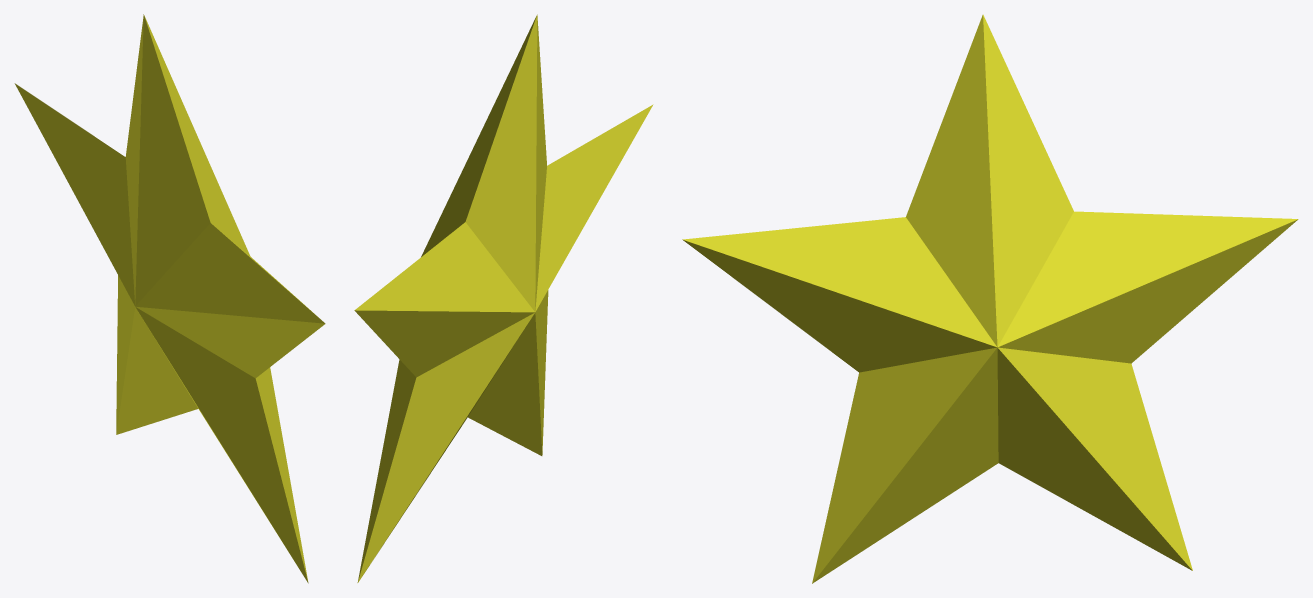
The model's file is bintang.fbx.
3 views of the same model, side by side, from view 1: azimuth 30°, elevation 25°; view 2: azimuth 150°, elevation 25°; view 3: azimuth 270°, elevation 25° (orthographic).
Visible parts, largest first — view 1: Circle; view 2: Circle; view 3: Circle.
Part boxes in pixels (x1,y1,x2,y2): Circle: [14, 14, 325, 583]; Circle: [354, 14, 653, 582]; Circle: [682, 14, 1298, 583].
Bounding box in the file's own units: 42 × 181 × 190.
